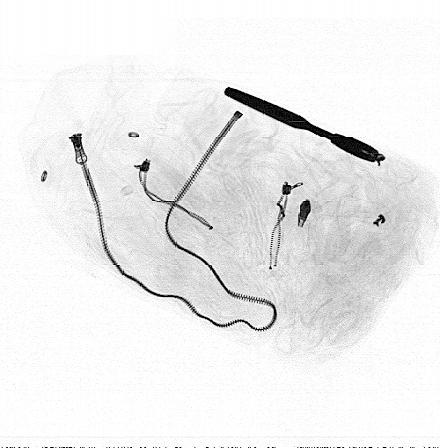Pliers: (222, 86, 389, 167)
